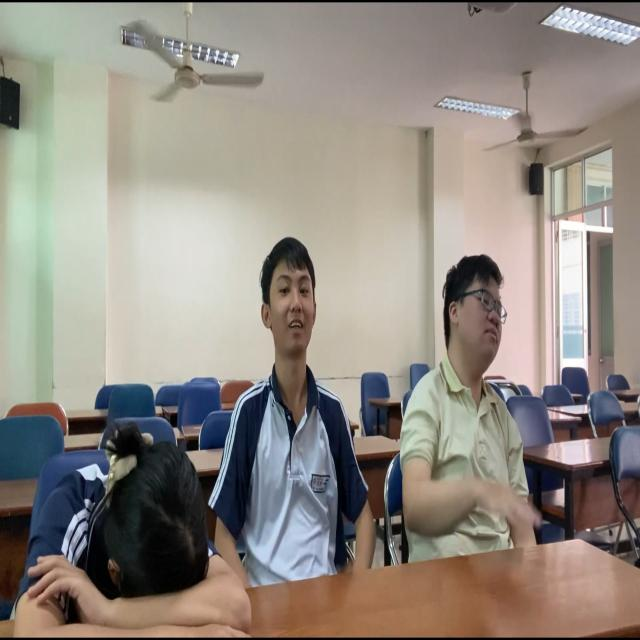sleep: (11, 430, 254, 640)
